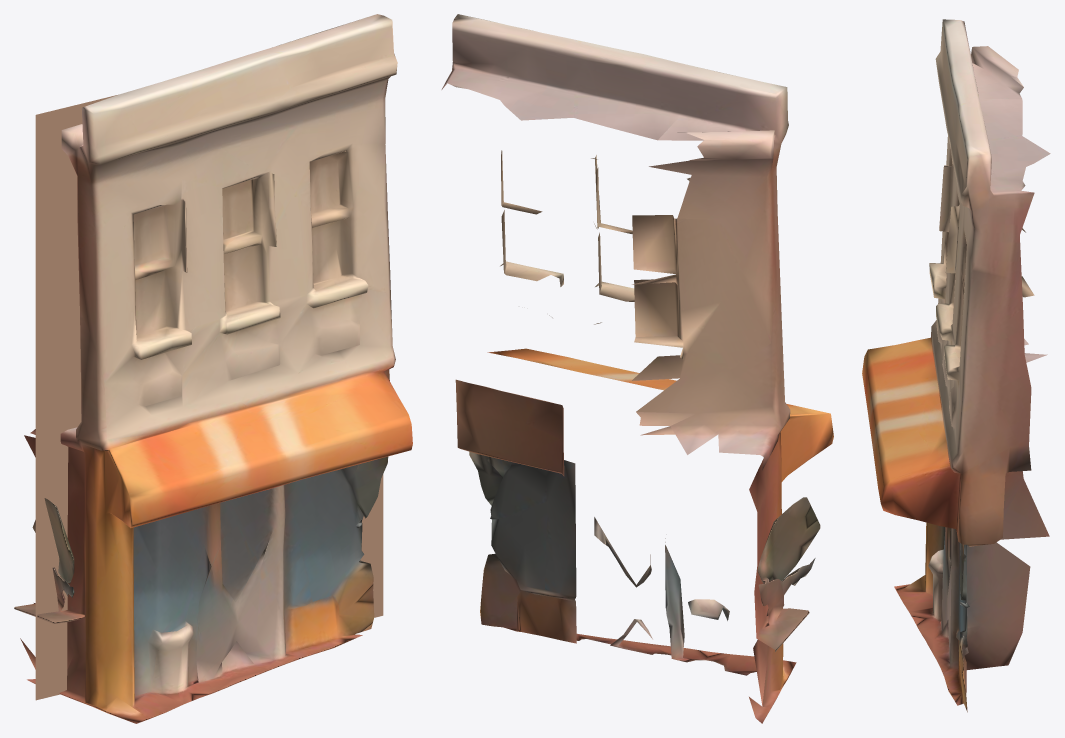
File: shop.glb
The picture shows the model from 3 angles, left to right: view 1: azimuth 30°, elevation 25°; view 2: azimuth 150°, elevation 25°; view 3: azimuth 270°, elevation 25°; orthographic projection. The views are drawn at different scales.
Visible parts, largest first — view 1: tripo_node_01a21d0b-98df-7bd6-81a4-4114aa65b3a5; view 2: tripo_node_01a21d0b-98df-7bd6-81a4-4114aa65b3a5; view 3: tripo_node_01a21d0b-98df-7bd6-81a4-4114aa65b3a5.
Boxes of the visible parts, x1,y1,x2,y2 form: tripo_node_01a21d0b-98df-7bd6-81a4-4114aa65b3a5: (14, 14, 412, 723); tripo_node_01a21d0b-98df-7bd6-81a4-4114aa65b3a5: (441, 14, 833, 723); tripo_node_01a21d0b-98df-7bd6-81a4-4114aa65b3a5: (862, 19, 1050, 712).
Bounding box in the file's own units: 7 × 11.61 × 3.5.
Materials: 1 (1 with a texture image).
